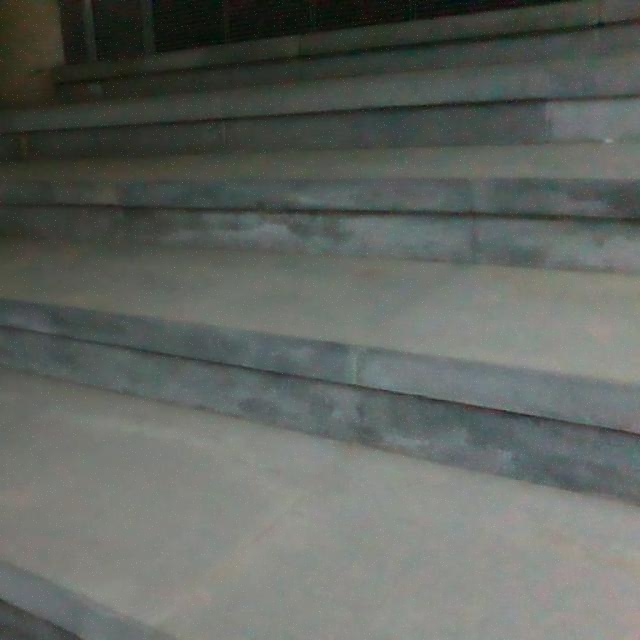stair: (0, 4, 637, 640)
